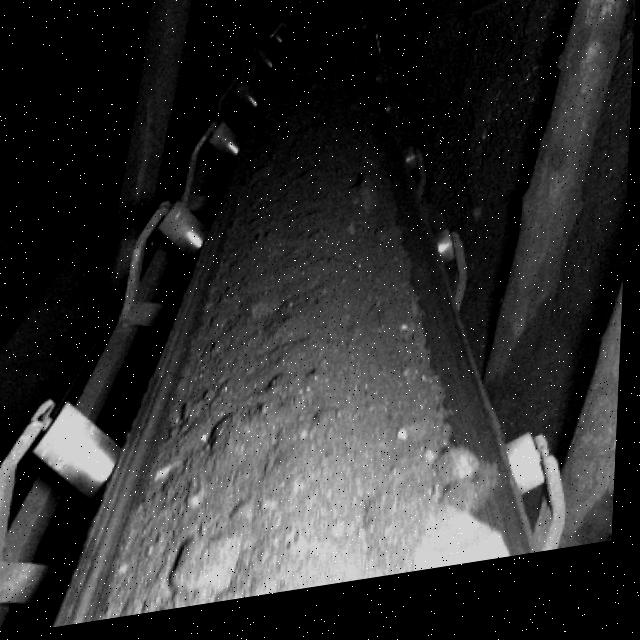large_sized_coal: (375, 494, 522, 591), (176, 539, 243, 605), (438, 456, 487, 498)
